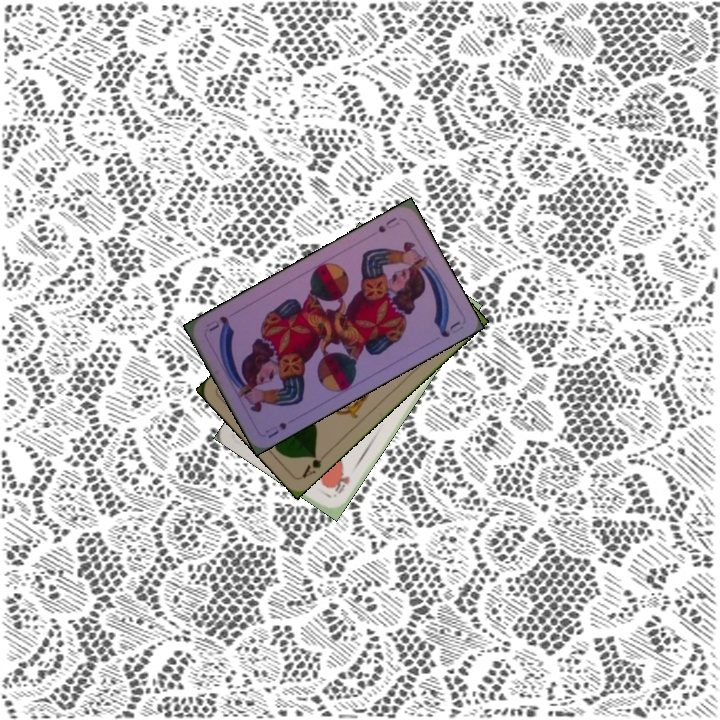GA: (297, 449, 325, 481)
HO: (331, 469, 353, 496)
SU: (261, 418, 289, 441), (374, 213, 402, 235)
